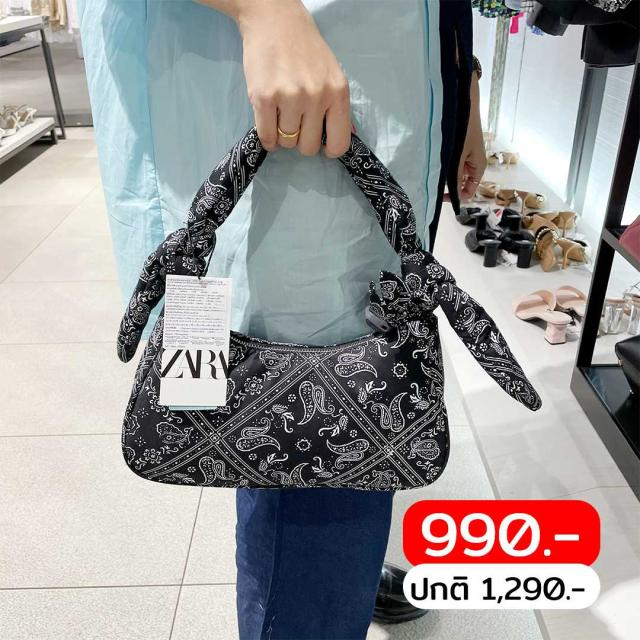Handbag: (114, 310, 462, 508)
